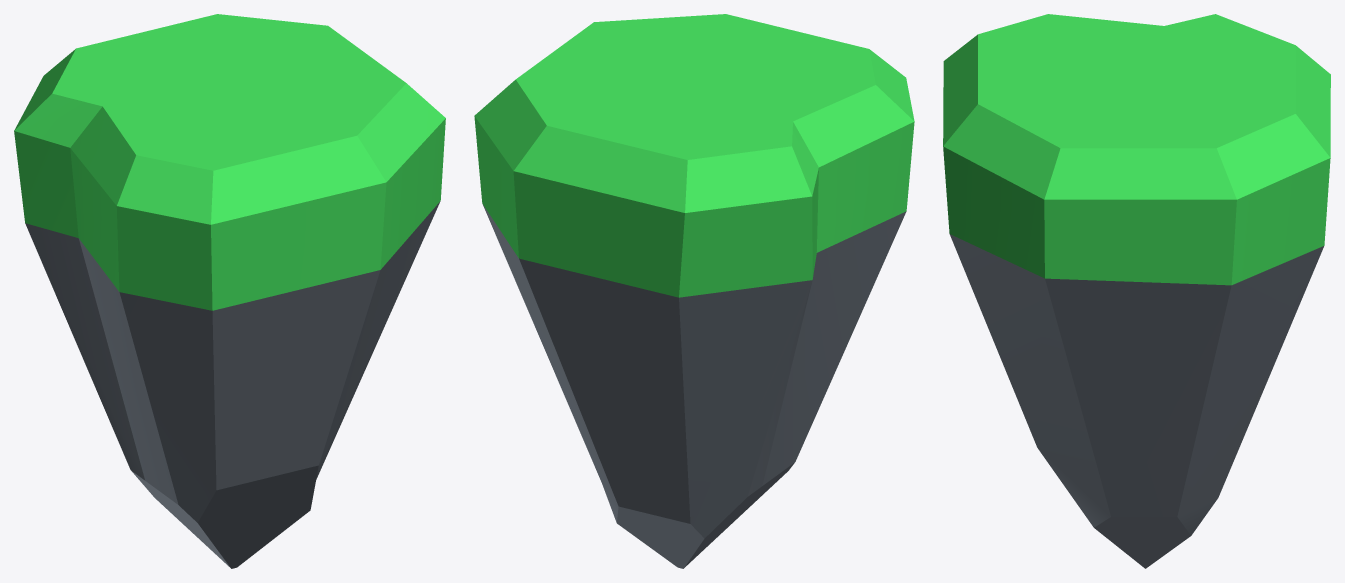
File: testmodelsisland_Island_1__2_.fbx
3 views of the same model, side by side, from view 1: azimuth 30°, elevation 25°; view 2: azimuth 150°, elevation 25°; view 3: azimuth 270°, elevation 25° (orthographic).
Parts seen in each view (by area): view 1: island_Island_1__2_; view 2: island_Island_1__2_; view 3: island_Island_1__2_.
Boxes of the visible parts, x1,y1,x2,y2 form: island_Island_1__2_: [14, 14, 445, 568]; island_Island_1__2_: [474, 14, 914, 568]; island_Island_1__2_: [943, 14, 1330, 568].
Size of the model in its own units: 450 by 618 by 450.
